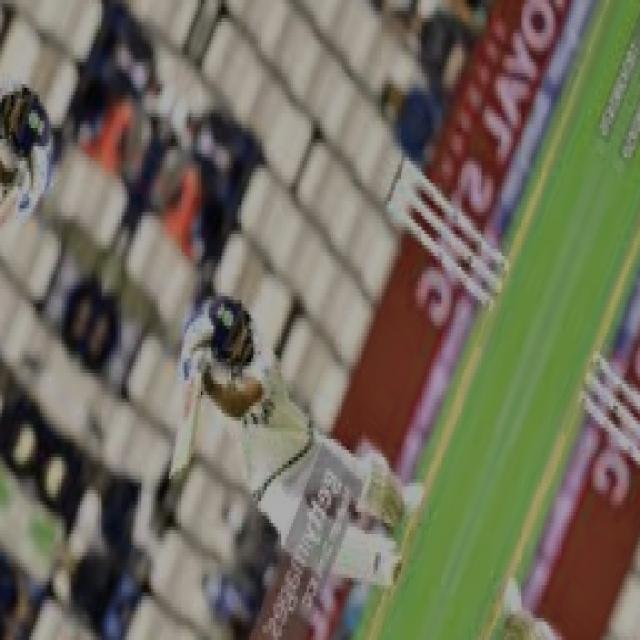bat: (156, 344, 211, 486)
